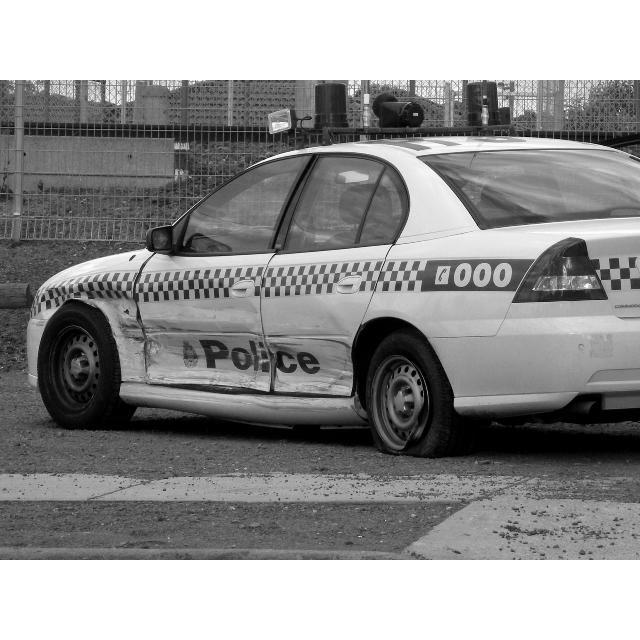Runningboard-Damage: (116, 375, 348, 424)
doorouter-dent: (266, 253, 368, 404), (142, 265, 256, 393)
